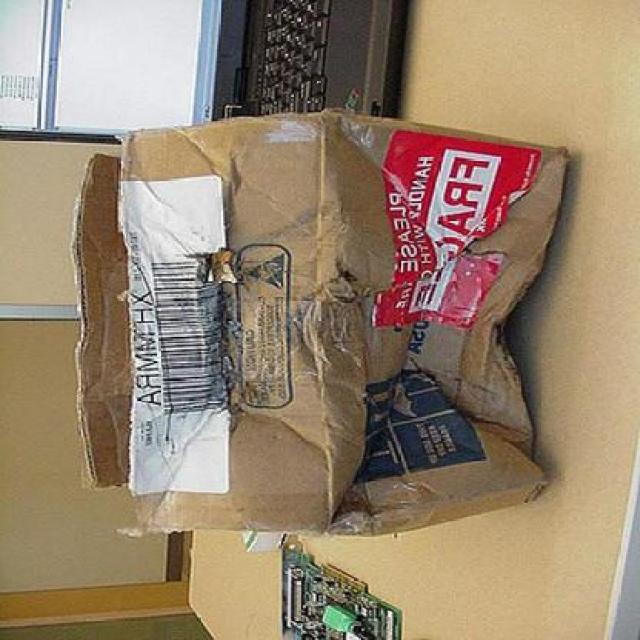defect: (71, 112, 566, 538)
